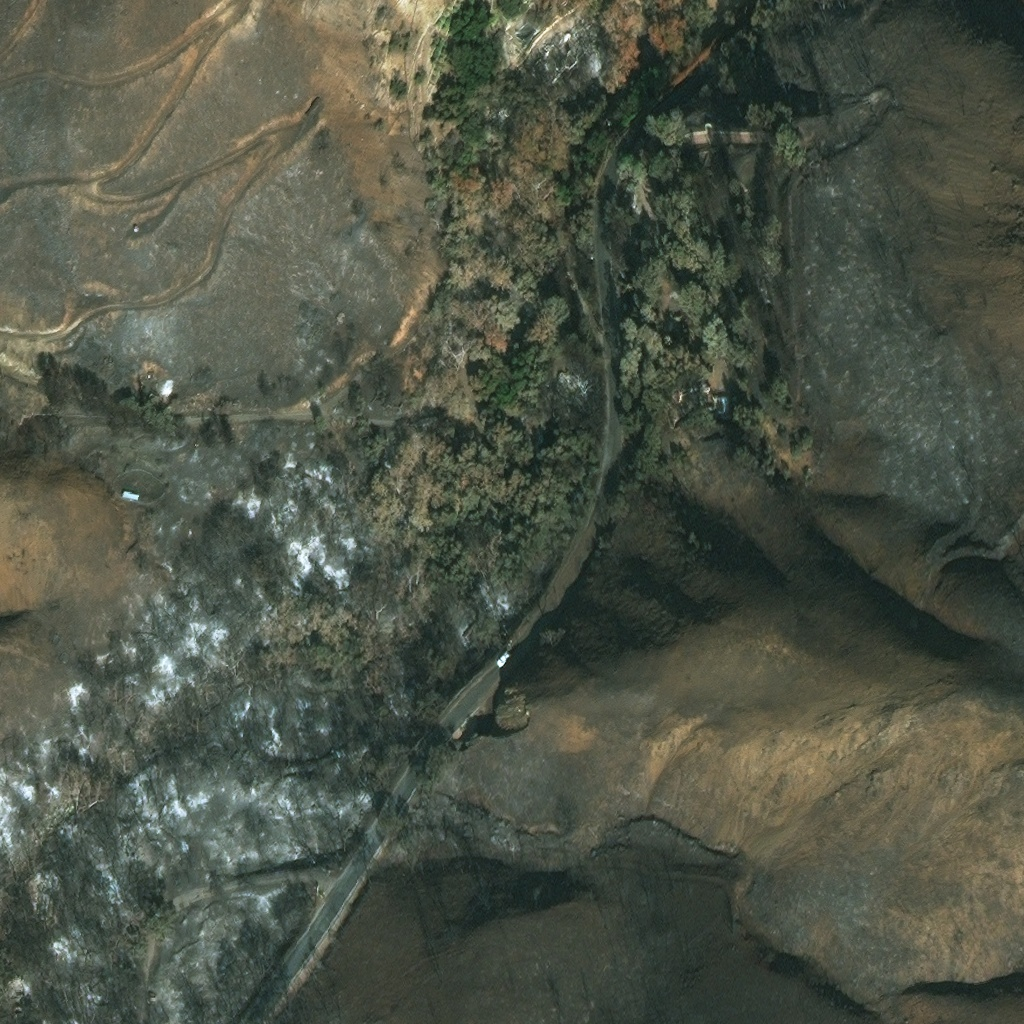0 no-damage: (121, 491, 139, 502)
3 destroyed: (545, 12, 606, 65), (668, 373, 734, 416), (515, 18, 533, 35), (154, 379, 172, 395)
